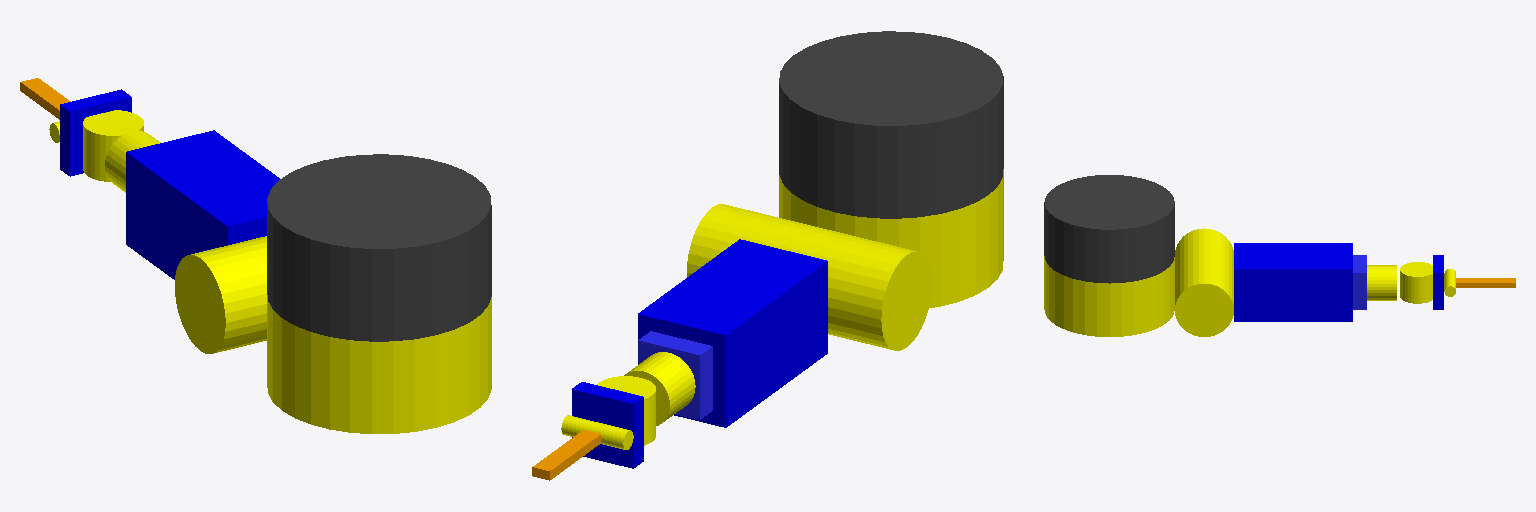
robot.urdf — third_arm:
<?xml version="1.0"?>
<robot name="third_arm">

  <!-- Third Arm has 5 joints, need many more links to make the model -->

  <link name="base_link">
    <visual>
		<origin xyz="0 0 0" rpy ="0 0  0"/>
      <material name="Gray">
       <color rgba="0.3 0.3 0.3 1.0"/>
      </material> 	
      <geometry>
        <cylinder length="0.1" radius="0.11"/>
      </geometry>
    </visual>
  </link>

  <link name="base_motor">
  	<inertial>
  		<origin xyz="0 0 0" rpy ="0 0 0"/>
  		<mass value="1"/>
  		<inertia ixx="100"  ixy="0"  ixz="0" iyy="100" iyz="0" izz="100" />
  	</inertial>
    <visual>
		<origin xyz="0 0 0" rpy ="0 0  0"/>
      <material name="Yellow">
       <color rgba="1.0 1.0 0.0 1.0"/>
      </material> 	
      <geometry>
        <cylinder length="0.1" radius="0.11"/>
      </geometry>
    </visual>
  </link>


  <joint name="base_to_motor1" type="revolute">
  	<axis xyz="0 0 1"/>
  	<limit lower="-1.5708" upper="1.5708" effort="10" velocity="0.314"/>
  	<origin xyz="0 0 -0.1" rpy="0 0 0" />
    <parent link="base_link"/>
    <child link="base_motor"/>
  </joint>


  <link name="lift_motor">
  	<inertial>
  		<origin xyz="0 0 0" rpy ="0 0 0"/>
  		<mass value="1"/>
  		<inertia ixx="100"  ixy="0"  ixz="0" iyy="100" iyz="0" izz="100" />
  	</inertial>
    <visual>
		<origin xyz="0 0 0" rpy ="0 0 0"/>
      <material name="Yellow">
       <color rgba="1.0 1.0 0.0 1.0"/>
      </material> 	
      <geometry>
        <cylinder length="0.22" radius="0.05"/>
      </geometry>
    </visual>
  </link>

  <joint name="swivel_to_motor2" type="revolute">
  	<axis xyz="0 0 1"/>
  	<limit lower="-1.5708" upper="1.5708" effort="10" velocity="0.314"/>
  	<origin xyz="0 0.16 0" rpy="1.5708 1.5708 1.5708" />
    <parent link="base_motor"/>
    <child link="lift_motor"/>
  </joint>

  <link name="extend_link1">
    <visual>
		<origin xyz="0 0.1 0" rpy ="0 0 0"/>
      <material name="Blue">
       <color rgba="0 0.0 1.0 0.4"/>
      </material> 	
      <geometry>
        <box size="0.1 0.2 0.1"/>
      </geometry>
    </visual>
  </link>

  <joint name="motor2_to_extend1" type="fixed">
  	<origin xyz="0 0.05 0" rpy="0 0 0" />
    <parent link="lift_motor"/>
    <child link="extend_link1"/>
  </joint>

  <link name="extend_link2">
    <visual>
		<origin xyz="0 0 0" rpy ="0 0 0"/>
      <material name="Blue2">
       <color rgba="0.2 0.2 1.0 1.0"/>
      </material> 	
      <geometry>
        <box size="0.07 .20 .07"/>
      </geometry>
    </visual>
  </link>

  <joint name="extension" type="fixed">
    <origin xyz="0 0.125 0" rpy="0 0 0" />
    <parent link="extend_link1"/>
    <child link="extend_link2"/>
  </joint>
  
  <!--
  <joint name="extension" type="prismatic">
  	<axis xyz="0 1 0"/>
  	<limit lower="0" upper="0.15" effort="10" velocity="5"/>
  	<origin xyz="0 0.125 0" rpy="0 0 0" />
    <parent link="extend_link1"/>
    <child link="extend_link2"/>
  </joint>
  -->

  <link name="wrist_motor">
  	<inertial>
  		<origin xyz="0 0 0" rpy =" 1.5708 0  0"/>
  		<mass value="1"/>
  		<inertia ixx="100"  ixy="0"  ixz="0" iyy="100" iyz="0" izz="100" />
  	</inertial>
    <visual>
		<origin xyz="0 0 0" rpy ="1.5708 0 0"/>
      <material name="Yellow">
       <color rgba="1.0 1.0 0.0 1.0"/>
      </material> 	
      <geometry>
        <cylinder length="0.05" radius="0.03"/>
      </geometry>
    </visual>
  </link>

  <joint name="wrist_motor_to_extension" type="revolute">
  	<axis xyz="0 1 0"/>
  	<limit lower="-1.5708" upper="1.5708" effort="5" velocity="0.5"/>
  	<origin xyz="0 0.125 0" rpy="0 0 0" />
    <parent link="extend_link2"/>
    <child link="wrist_motor"/>
  </joint>

  <link name="wrist_tilt_motor">
    <inertial>
      <origin xyz="0 0 0" rpy ="0 1.5708 0"/>
      <mass value="1"/>
      <inertia ixx="100"  ixy="0"  ixz="0" iyy="100" iyz="0" izz="100" />
    </inertial>
    <visual>
    <origin xyz="0 0 0" rpy ="0 1.5708 0"/>
      <material name="Yellow">
       <color rgba="1.0 1.0 0.0 1.0"/>
      </material>   
      <geometry>
        <cylinder length="0.05" radius="0.03"/>
      </geometry>
    </visual>
  </link>

  <joint name="wrist_motor2_to_wrist_tilt_motor" type="revolute">
    <axis xyz="1 0 0"/>
    <limit lower="-1.5708" upper="1.5708" effort="5" velocity="0.5"/>
    <origin xyz="0 0.06 0" rpy="0 0 0" />
    <parent link="wrist_motor"/>
    <child link="wrist_tilt_motor"/>
  </joint>

  <link name="wrist_plate">
    <visual>
		<origin xyz="0 0 0" rpy ="0 0 0"/>
      <material name="Blue">
       <color rgba="0.0 0.0 1.0 1.0"/>
      </material> 	
      <geometry>
        <box size="0.07 .02 .07"/>
      </geometry>
    </visual>
  </link>

  <joint name="wrist_tilt_motor_to_plate" type="fixed">
  	<origin xyz="0 0.035 0" rpy="0 0 0" />
    <parent link="wrist_tilt_motor"/>
    <child link="wrist_plate"/>
  </joint>

  

  <link name="gripper_motor">
  	<inertial>
  		<origin xyz="0 0 0" rpy =" 1.5708 0  0"/>
  		<mass value="1"/>
  		<inertia ixx="100"  ixy="0"  ixz="0" iyy="100" iyz="0" izz="100" />
  	</inertial>
    <visual>
		<origin xyz="0 0 0" rpy ="0 0 0"/>
      <material name="Yellow">
       <color rgba="1.0 1.0 0.0 1.0"/>
      </material> 	
      <geometry>
        <cylinder length="0.07" radius="0.01"/>
      </geometry>
    </visual>
  </link>

  <joint name="gripper_motor_to_plate" type="fixed">
  	<origin xyz="0 0.02 0" rpy="0 0 0" />
    <parent link="wrist_plate"/>
    <child link="gripper_motor"/>
  </joint>

  
  <link name="finger1">
  	<inertial>
  		<origin xyz="0 0.06 0" rpy =" 0 0  0"/>
  		<mass value="1"/>
  		<inertia ixx="100"  ixy="0"  ixz="0" iyy="100" iyz="0" izz="100" />
  	</inertial>  	
    <visual>
		<origin xyz="0 0.06 0" rpy ="0 0 0"/>
      <material name="Orange1">
       <color rgba="1.0 0.65 0.0 1.0"/>
      </material> 	
      <geometry>
        <box size="0.01 .1 .02"/>
      </geometry>
    </visual>
  </link>

  <joint name="finger1_to_gripper_motor" type="revolute">
  	<axis xyz="0 0 1"/>
  	<limit lower="0" upper="1" effort="5" velocity="0.5"/>
  	<origin xyz="0 0 0" rpy="0 0 0" />
    <parent link="gripper_motor"/>
    <child link="finger1"/>
  </joint>

  <link name="finger2">
  	<inertial>
  		<origin xyz="0 0.06 0" rpy =" 0 0  0"/>
  		<mass value="1"/>
  		<inertia ixx="100"  ixy="0"  ixz="0" iyy="100" iyz="0" izz="100" />
  	</inertial>
    <visual>
		<origin xyz="0 0.06 0" rpy ="0 0 0"/>
      <material name="Orange2">
       <color rgba="1.0 0.55 0.0 1.0"/>
      </material> 	
      <geometry>
        <box size="0.01 .1 .02"/>
      </geometry>
    </visual>
  </link>

  <joint name="finger2_to_gripper_motor" type="revolute">
  	<axis xyz="0 0 1"/>
  	<limit lower="-1" upper="0" effort="5" velocity="0.5"/>
  	<origin xyz="0 0 0" rpy="0 0 0" />
  	<mimic joint="finger1_to_gripper_motor" multiplier="-1" />
    <parent link="gripper_motor"/>
    <child link="finger2"/>
  </joint>
  
</robot>

--- Render facts (derived) ---
3 views of the same robot in one strip: view 1: azimuth 30°, elevation 25°; view 2: azimuth 150°, elevation 25°; view 3: azimuth 270°, elevation 25° (orthographic).
Robot: third_arm — 11 links, 10 joints (6 revolute, 4 fixed); root link base_link; default pose: every joint at zero.
Links seen in each view (by area): view 1: base_link, base_motor, extend_link1, lift_motor, wrist_plate, wrist_tilt_motor, wrist_motor, finger1; view 2: base_link, extend_link1, lift_motor, base_motor, wrist_plate, extend_link2, wrist_motor, finger1, wrist_tilt_motor, gripper_motor; view 3: base_link, extend_link1, base_motor, lift_motor, wrist_tilt_motor, wrist_motor, extend_link2, wrist_plate, finger1.
Boxes of the visible links, x1,y1,x2,y2 form: base_link: [267, 154, 491, 341]; base_motor: [267, 295, 491, 433]; extend_link1: [126, 130, 279, 279]; lift_motor: [175, 236, 266, 353]; wrist_plate: [60, 89, 131, 176]; wrist_tilt_motor: [83, 110, 143, 181]; wrist_motor: [105, 131, 160, 192]; finger1: [20, 78, 70, 119]; base_link: [779, 31, 1003, 218]; extend_link1: [638, 239, 827, 427]; lift_motor: [687, 204, 931, 350]; base_motor: [779, 169, 1003, 307]; wrist_plate: [572, 382, 643, 468]; extend_link2: [638, 331, 712, 419]; wrist_motor: [624, 352, 695, 425]; finger1: [532, 430, 600, 480]; wrist_tilt_motor: [597, 376, 655, 445]; gripper_motor: [561, 415, 633, 449]; base_link: [1044, 175, 1174, 283]; extend_link1: [1234, 243, 1352, 321]; base_motor: [1044, 256, 1174, 336]; lift_motor: [1175, 228, 1233, 336]; wrist_tilt_motor: [1400, 262, 1432, 303]; wrist_motor: [1367, 265, 1396, 300]; extend_link2: [1353, 255, 1366, 309]; wrist_plate: [1433, 255, 1443, 309]; finger1: [1456, 278, 1515, 287].
Size in the robot's own frame: 0.22 by 0.795 by 0.2 metres.
Geometry: primitives only (box / cylinder / sphere), no mesh files.
